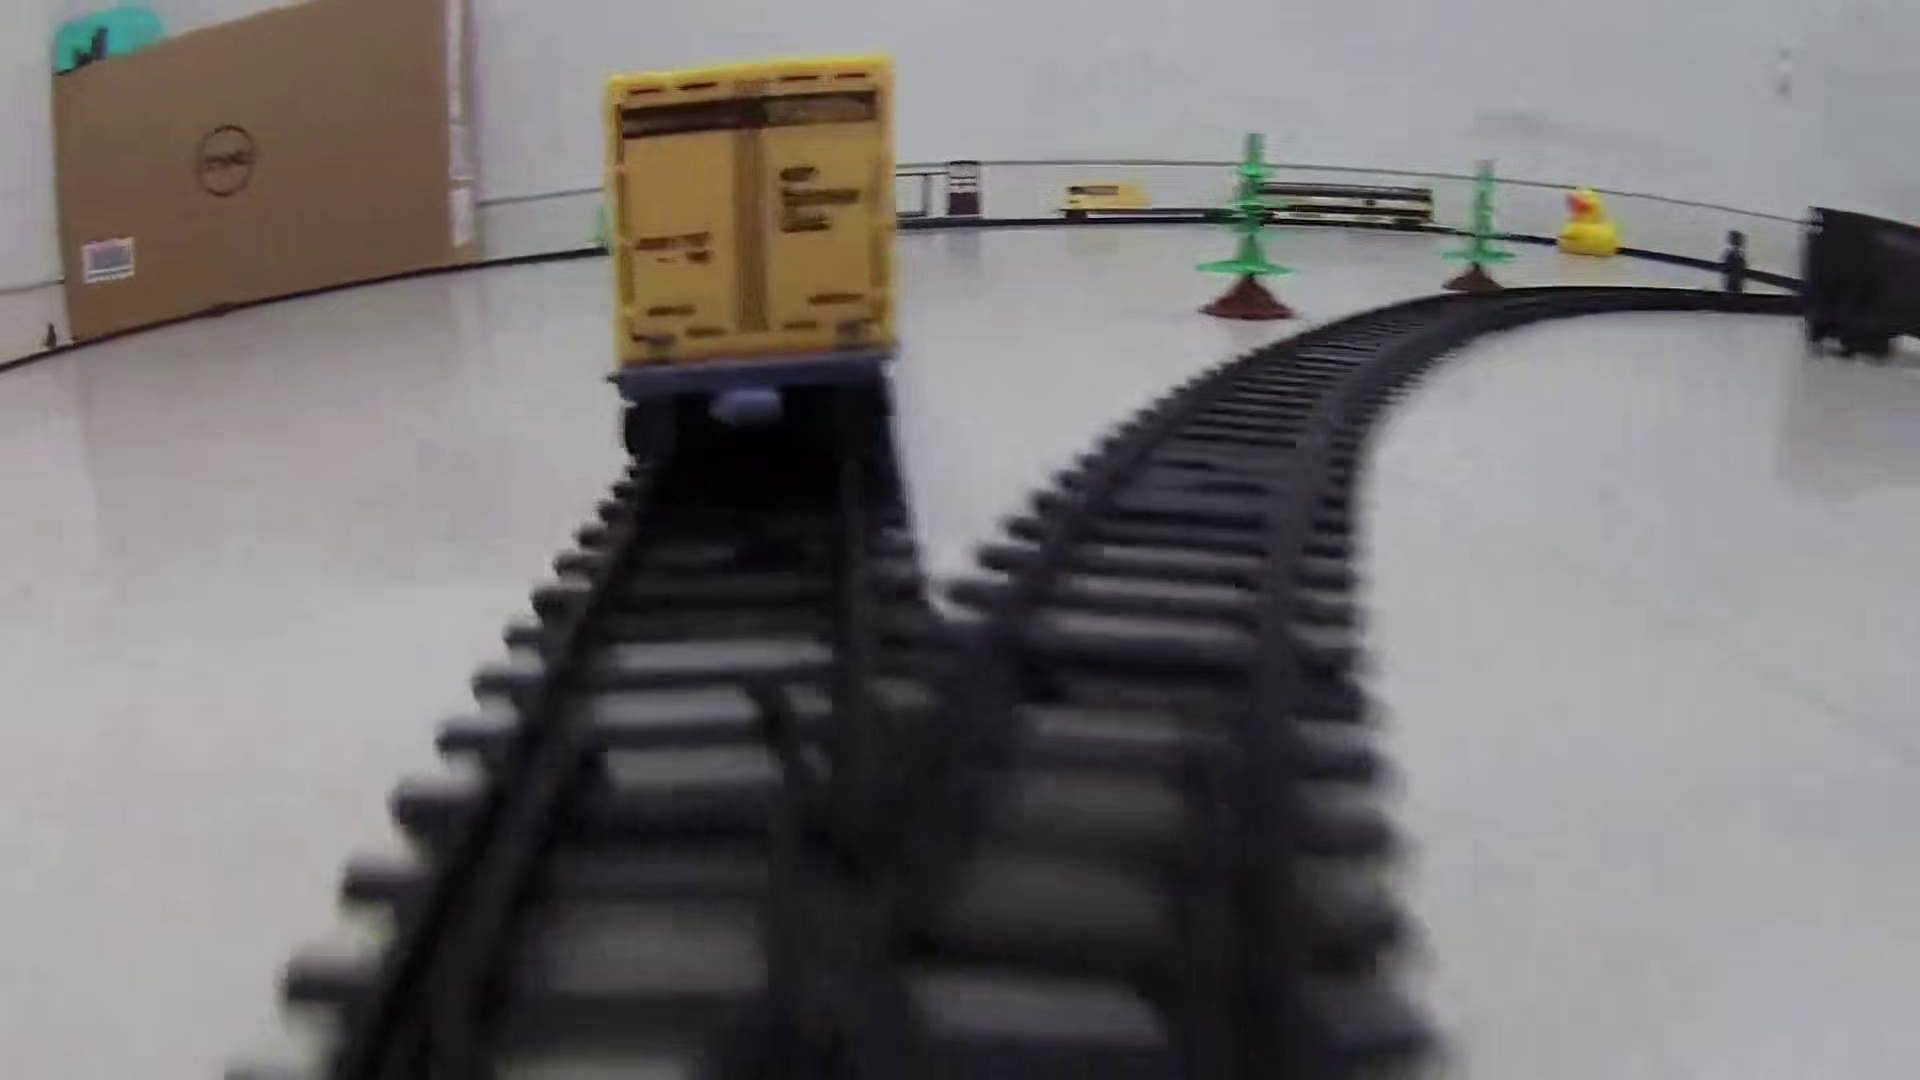people: (1713, 228, 1753, 298)
tree: (1192, 129, 1309, 331), (1436, 155, 1518, 297)
